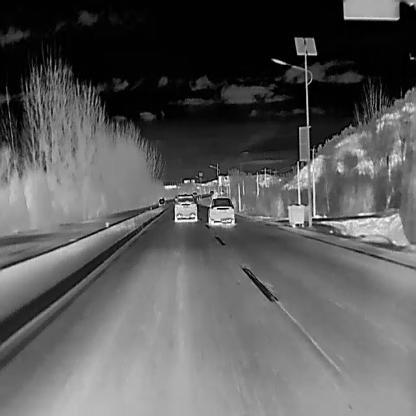car: (207, 197, 235, 226), (173, 193, 197, 221), (158, 197, 164, 206), (191, 191, 197, 194), (209, 190, 213, 194)
